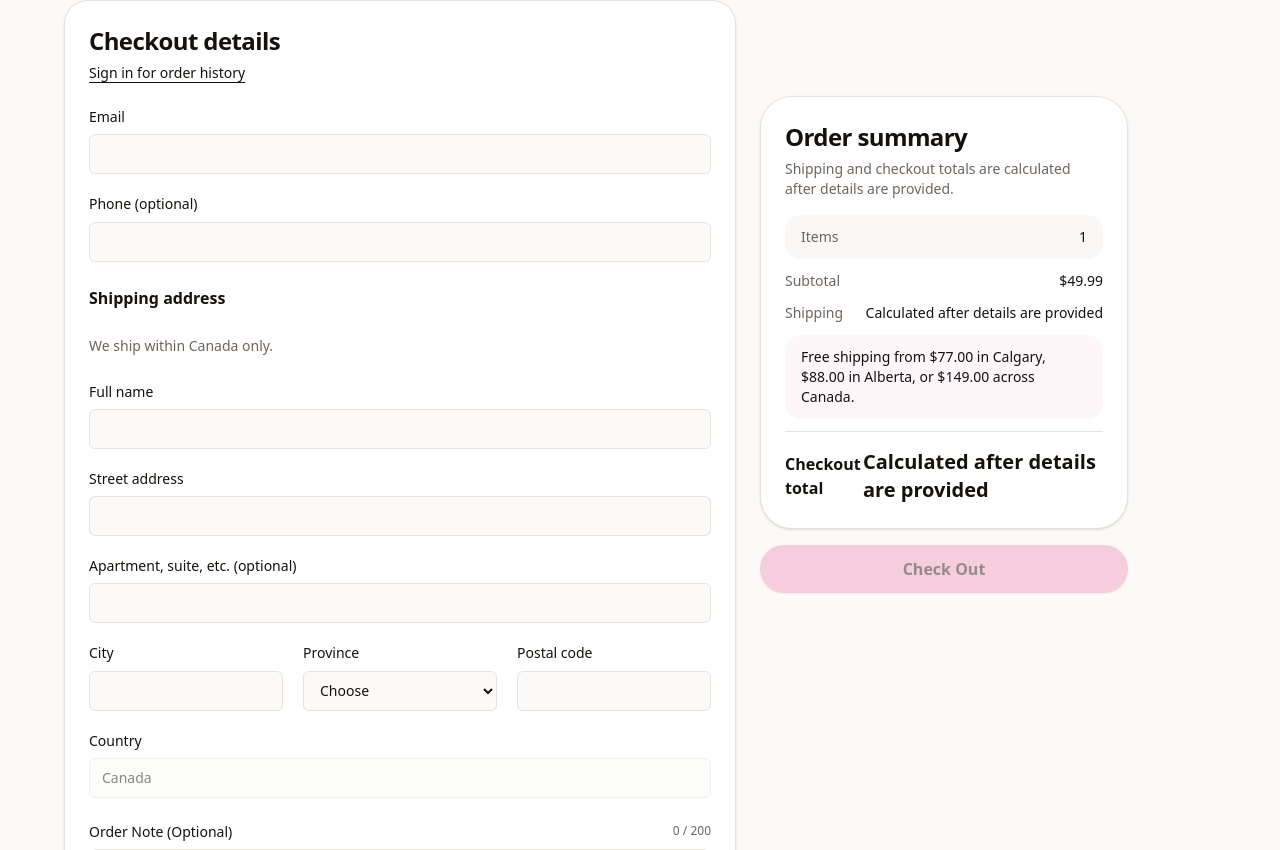
Test case: CartCheckoutPanel › keeps manual address entry usable when Google loads without importLibrary
Step 1. Type "customer@example.com" into the field labelled "Email" → (400, 154), box [89,134,711,174]
Step 2. Type "+1 780 555 0100" into the field labelled "Phone (optional)" → (400, 242), box [89,222,711,262]
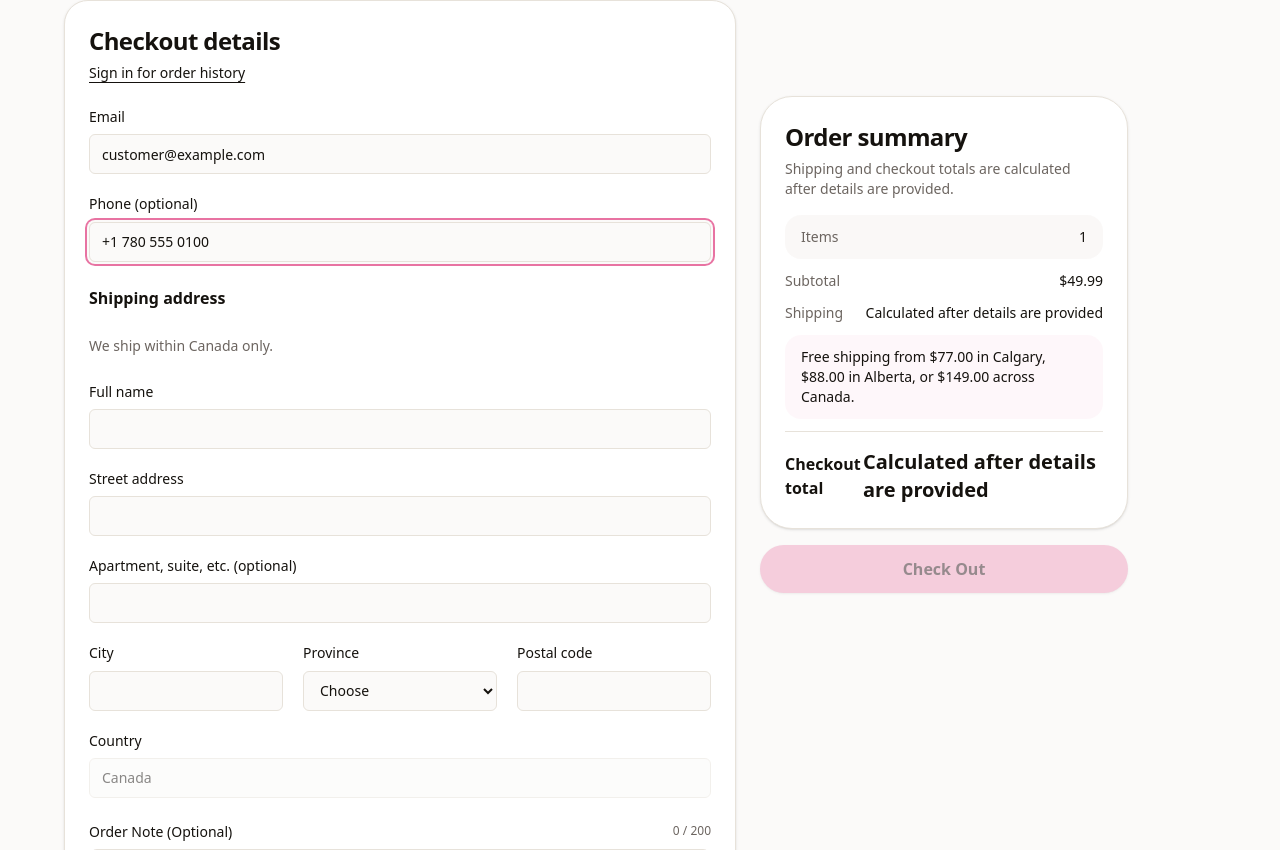
Step 3. Type "Ada Lovelace" into the field labelled "Full name" → (400, 429), box [89,409,711,449]
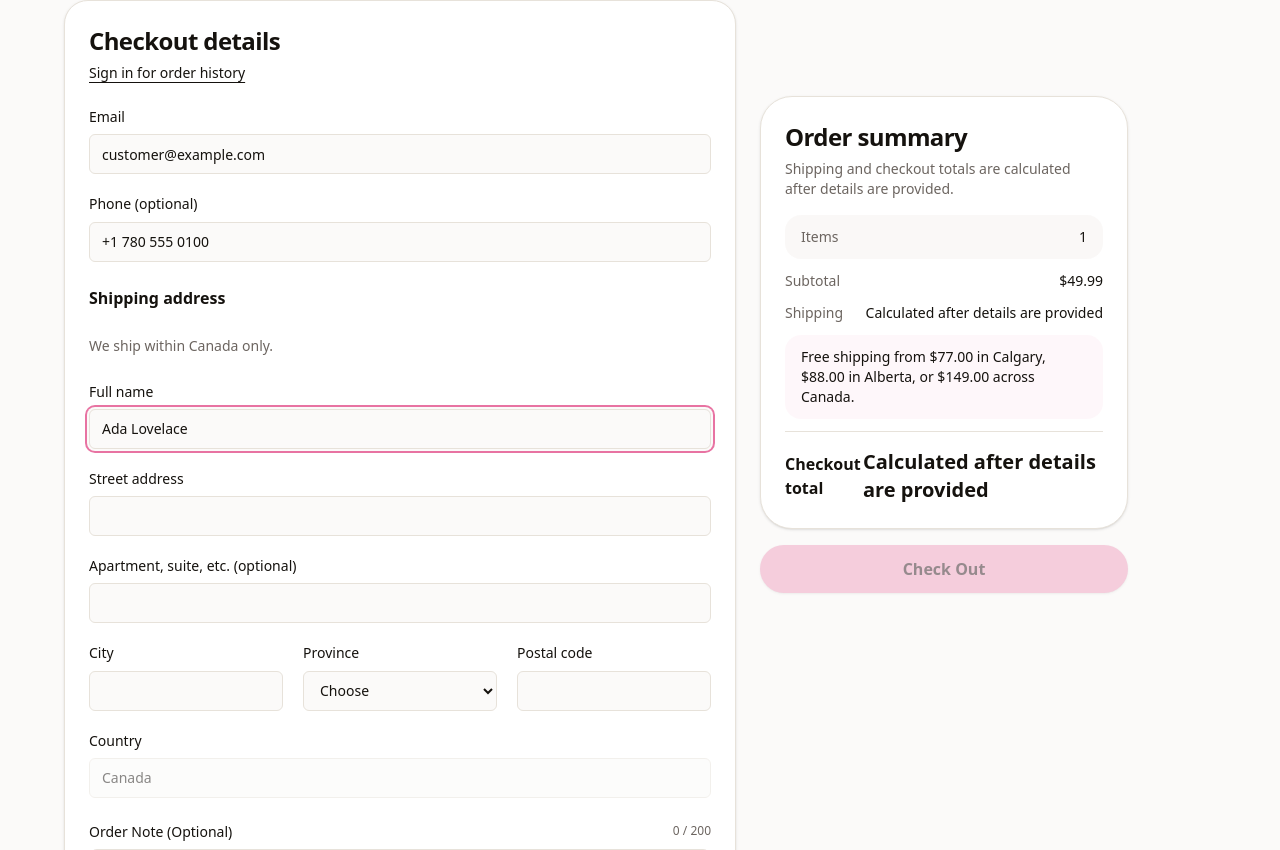
Step 4. Type "123 Maple Street" into the field labelled "Street address" → (400, 516), box [89,496,711,536]
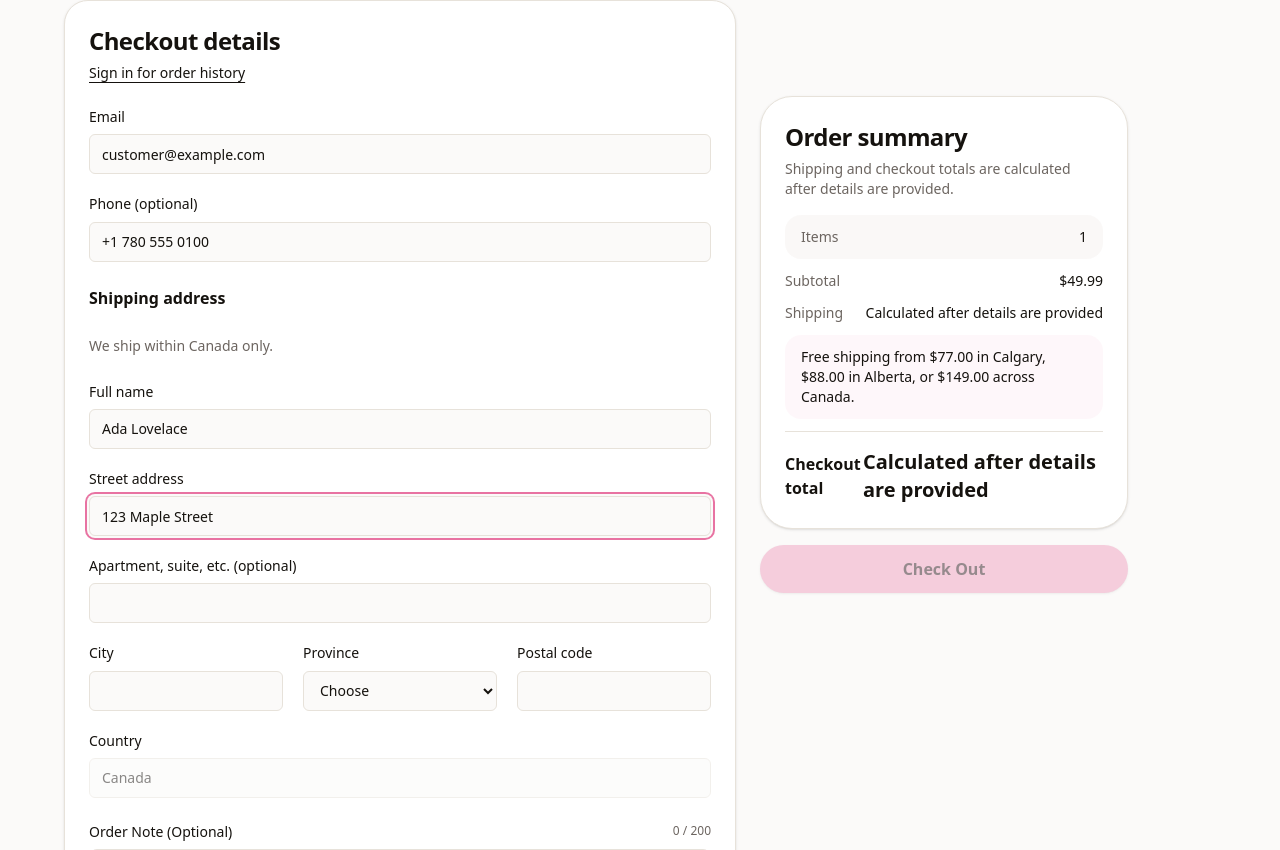
Step 5. Type "Vancouver" into the field labelled "City" → (186, 690), box [89,670,283,710]
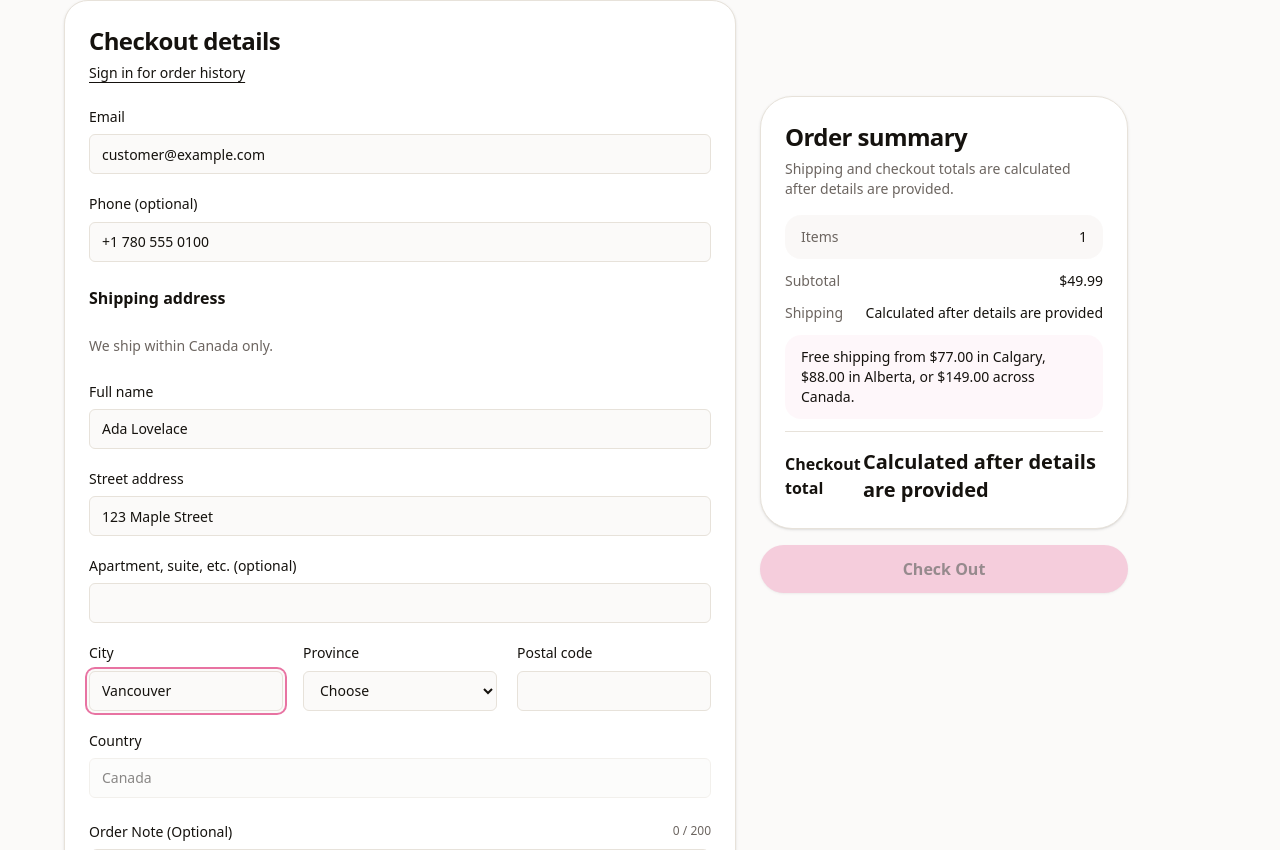
Step 6. Select "BC - British Columbia" in the dropdown labelled "Province" → (400, 690), box [303,670,497,710]
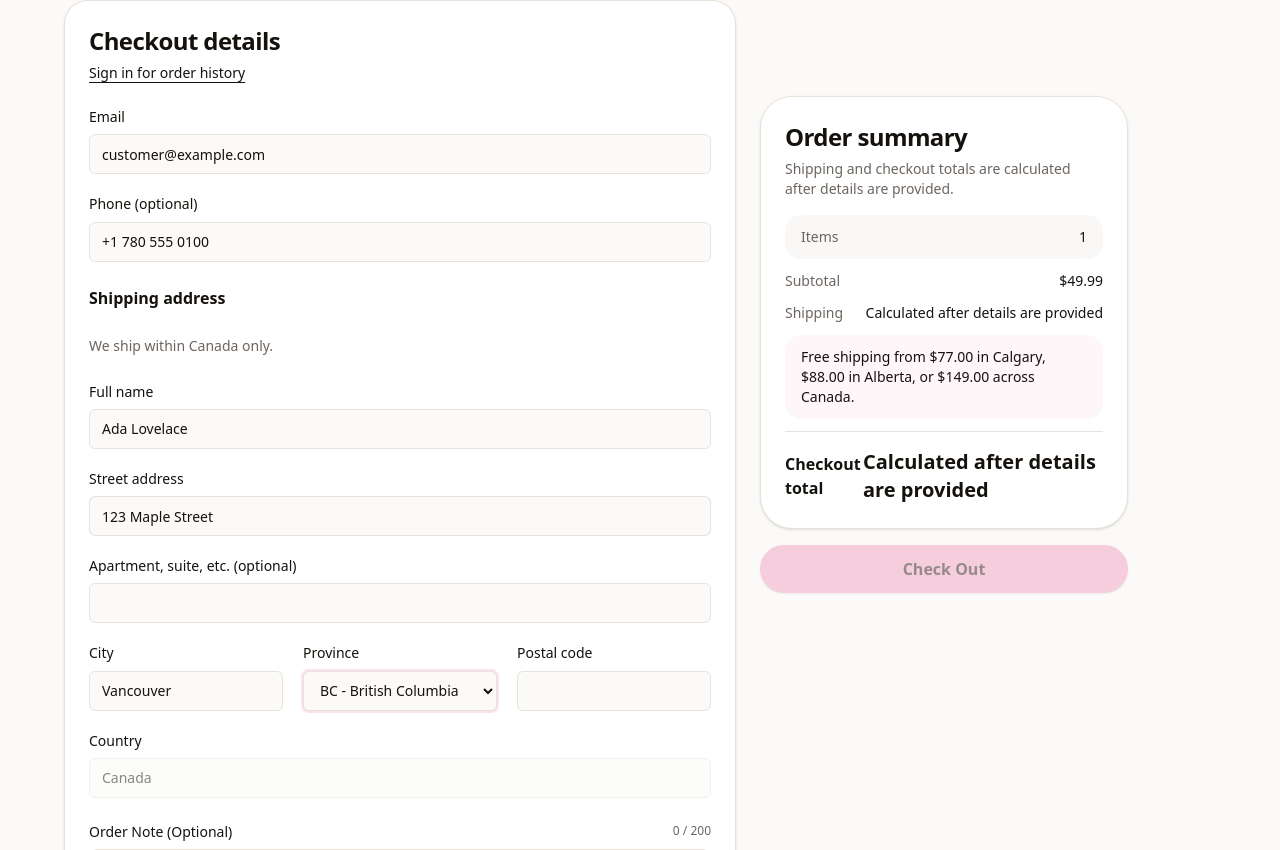
Step 7. Type "V6B 1A1" into the field labelled "Postal code" → (614, 690), box [517,670,711,710]
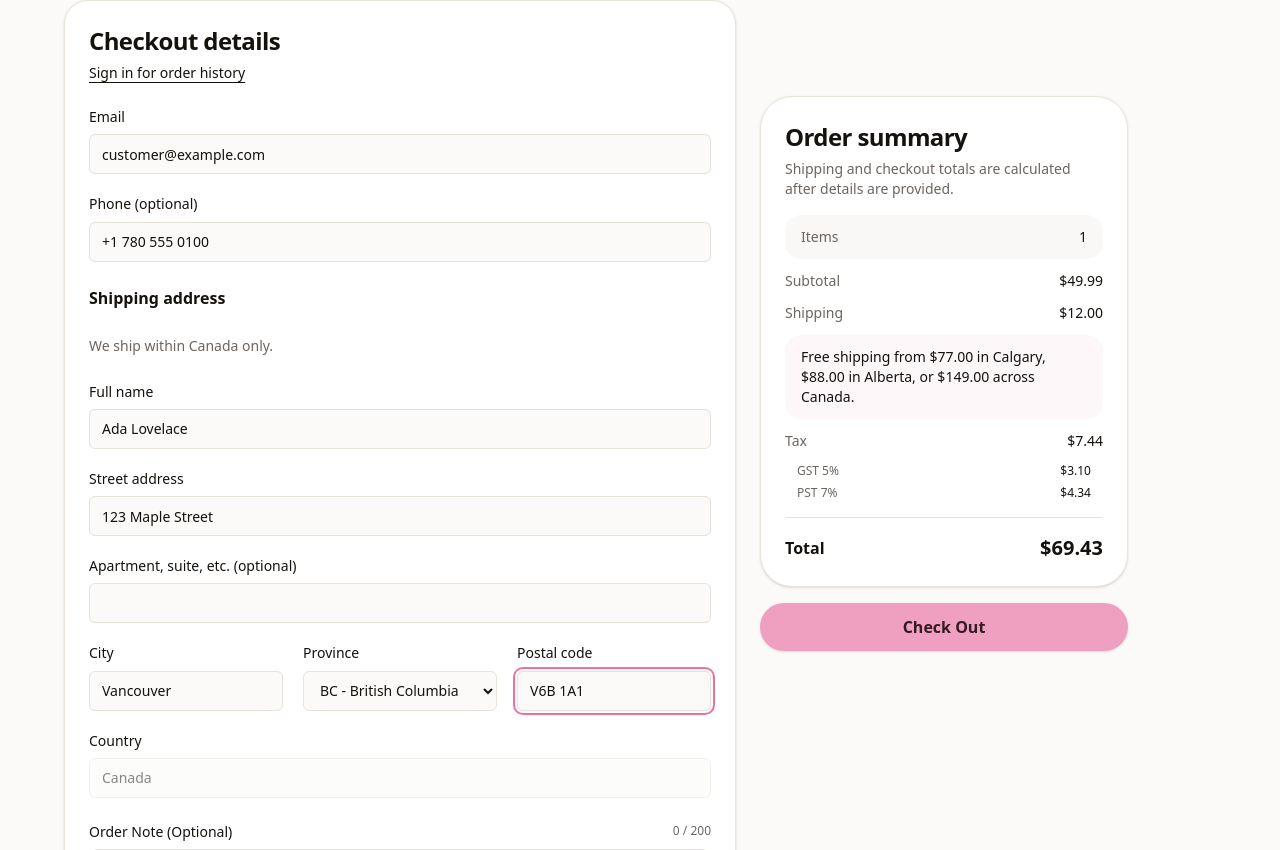
Expected: the text "$69.43" is shown, [1040,534,1103,562]
Expected: the button "Check Out" is enabled, [760,603,1128,651]
